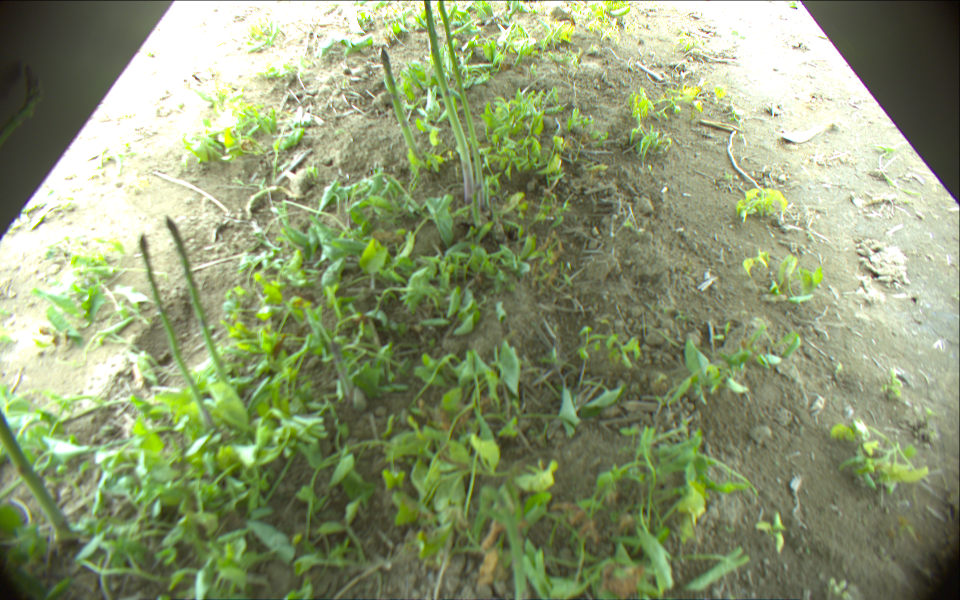aspa: (138, 232, 216, 429), (163, 213, 231, 380), (1, 406, 80, 542), (422, 1, 475, 203), (436, 1, 486, 191), (376, 46, 423, 166), (328, 339, 355, 398)
